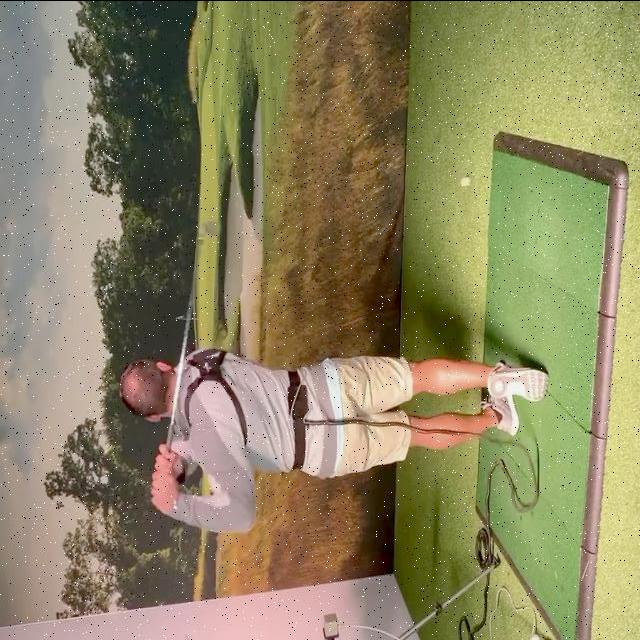ClubHandle: (166, 220, 220, 450)
ClubHead: (201, 219, 219, 234)
GolfBall: (461, 175, 471, 187)
